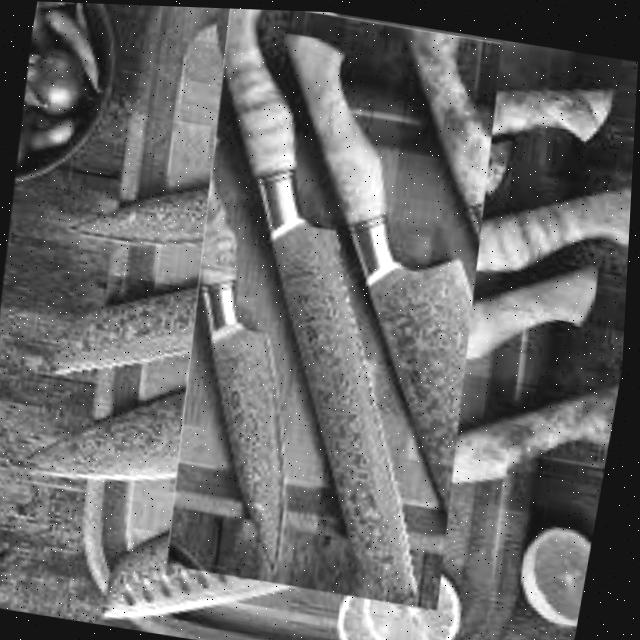knife: (136, 5, 514, 607), (99, 303, 625, 640), (213, 26, 526, 501)
